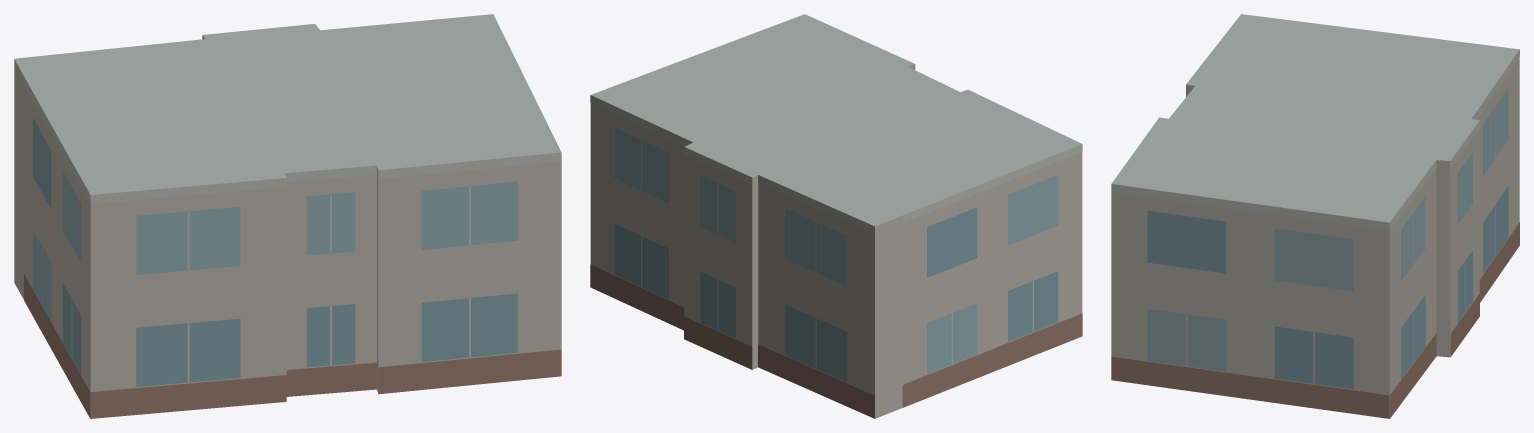
File: survey-upis-33012442.glb
The picture shows the model from 3 angles, left to right: view 1: azimuth 30°, elevation 25°; view 2: azimuth 150°, elevation 25°; view 3: azimuth 270°, elevation 25°; orthographic projection. The views are drawn at different scales.
Visible parts, largest first — view 1: survey-upis-33012442.tmp; view 2: survey-upis-33012442.tmp; view 3: survey-upis-33012442.tmp.
Part boxes in pixels (x1=…): survey-upis-33012442.tmp: x1=14, y1=14, x2=561, y2=418; survey-upis-33012442.tmp: x1=590, y1=14, x2=1082, y2=418; survey-upis-33012442.tmp: x1=1111, y1=14, x2=1519, y2=418.
Size of the model in its own units: 13.92 by 6.1 by 11.51.
